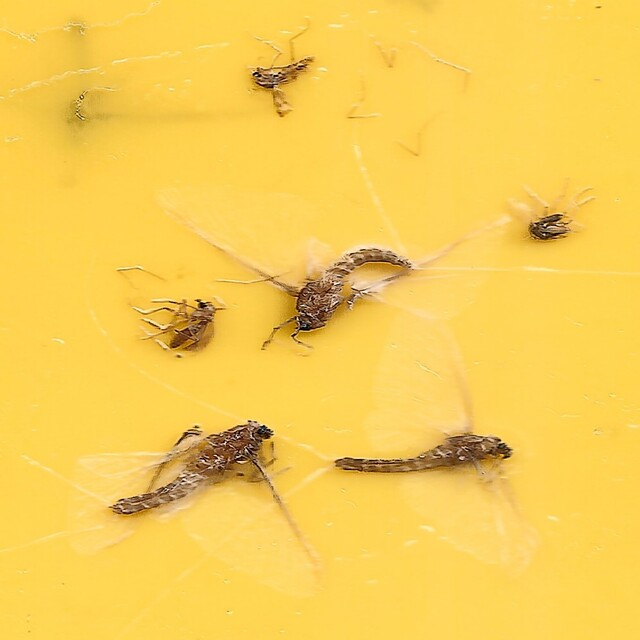Brachycera: (524, 206, 576, 245)
Ephemeroptera: (162, 184, 516, 353), (331, 308, 535, 570), (64, 417, 324, 592)
Nematocera: (248, 48, 319, 121)
